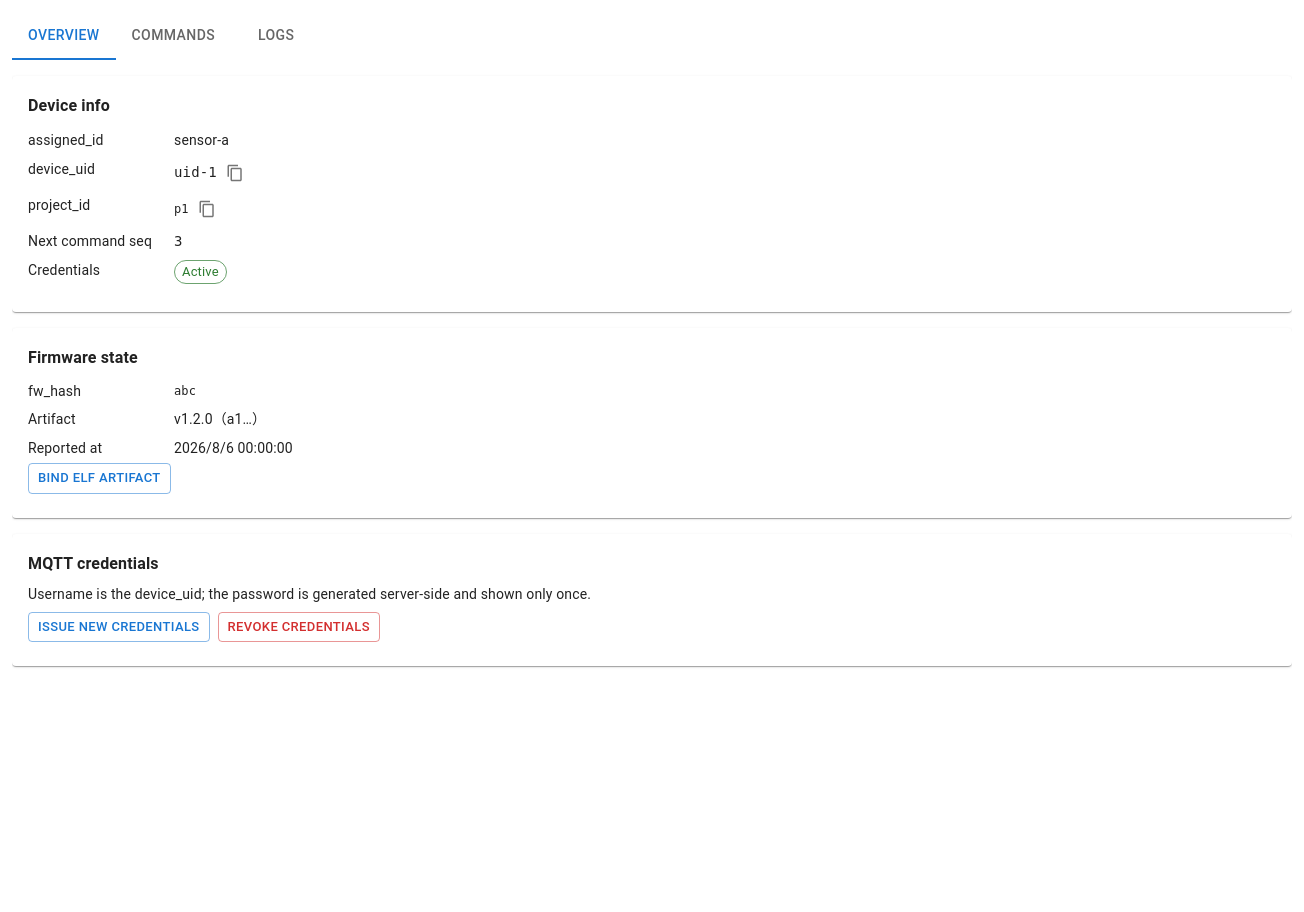
Test: DeviceDetailPage › switches between the overview and logs tabs
Expected: the text "sensor-a" is shown, [174, 130, 229, 151]
Step 1. Click the tab "Logs" → click(276, 36), box [231, 12, 321, 60]
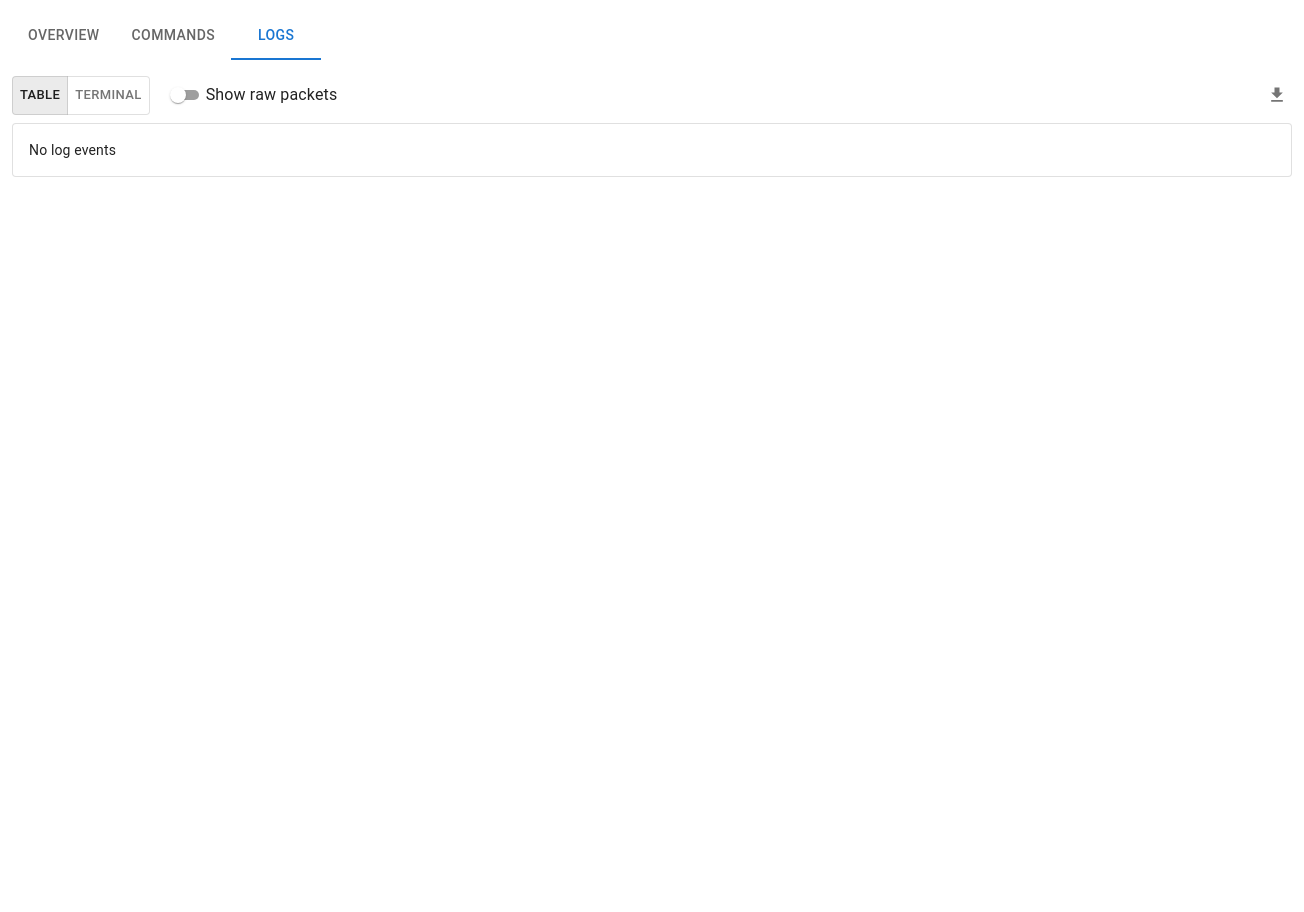
Now the text "No log events" is shown, box [29, 142, 116, 158]
Step 2. Click the tab "Overview" → click(64, 36), box [12, 12, 116, 60]
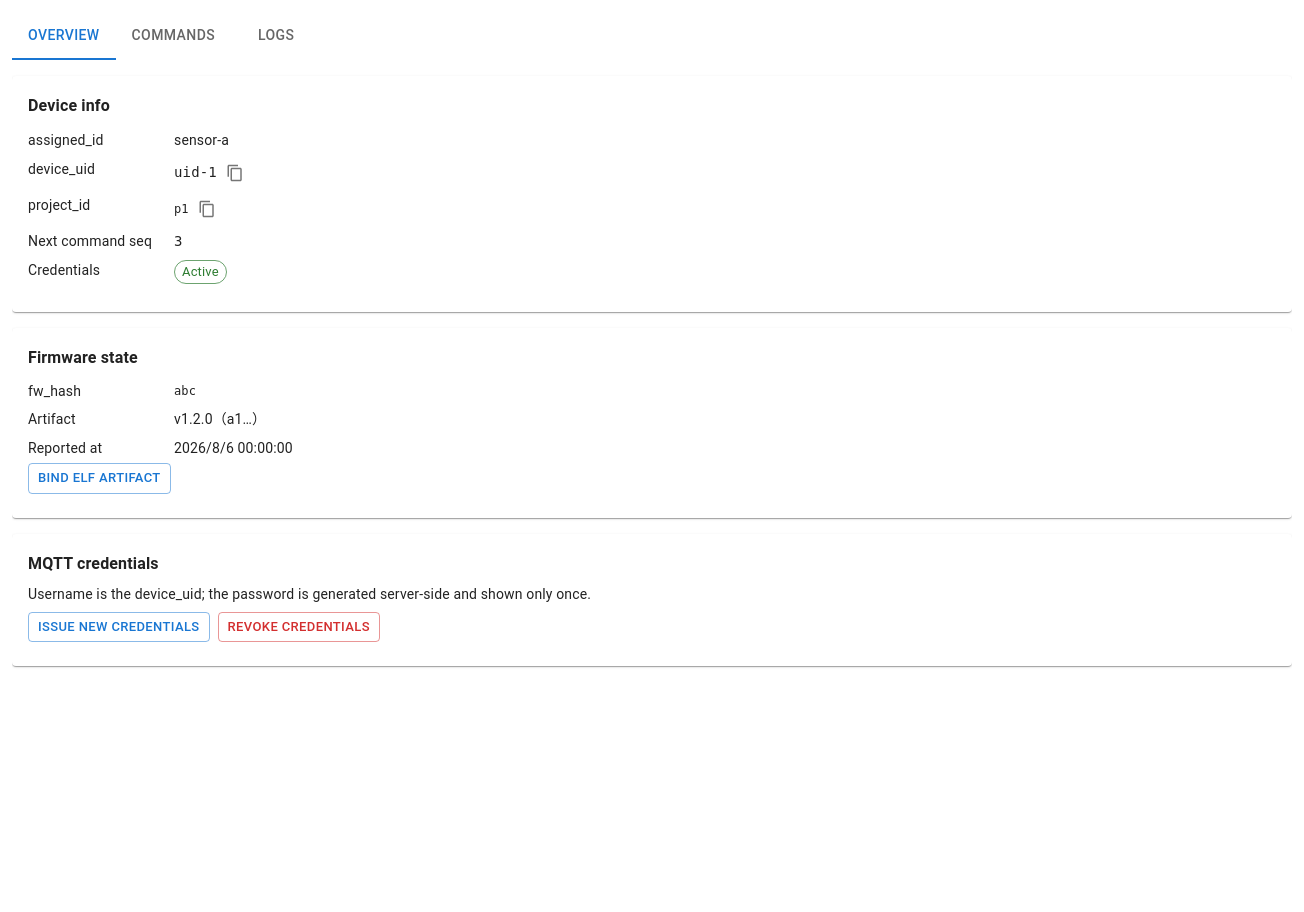
Now the text "sensor-a" is shown, box [174, 130, 229, 151]
